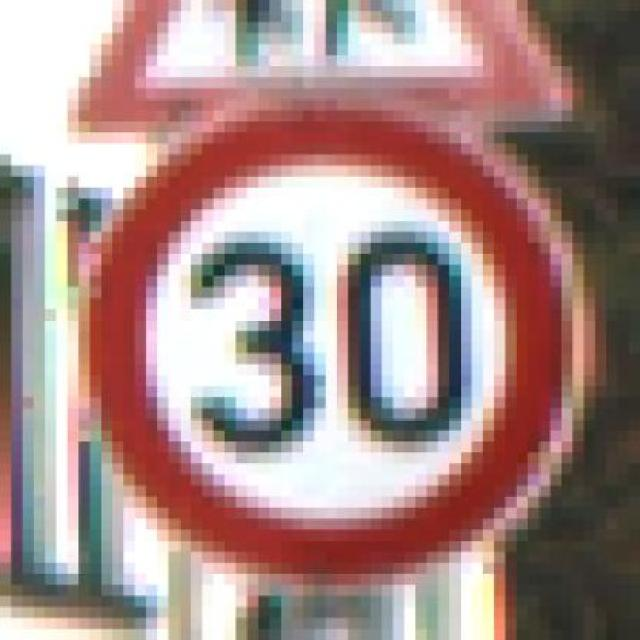Speed Limit 30 KMPh: (22, 56, 628, 618)
